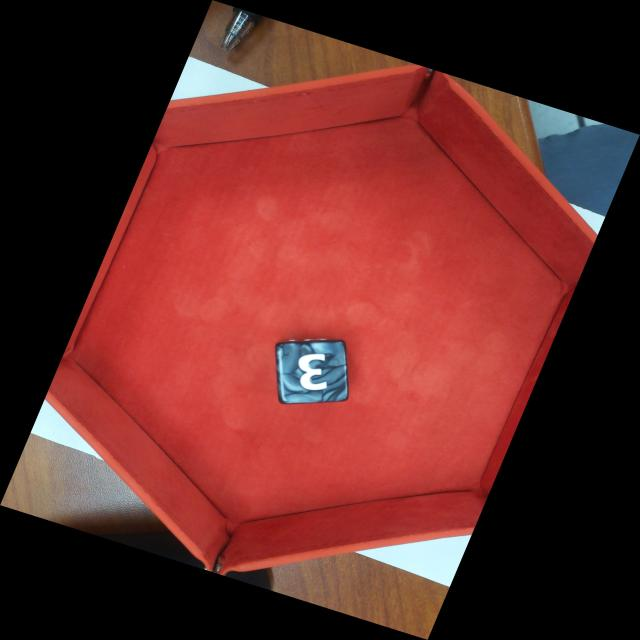dice: (275, 338, 350, 406)
